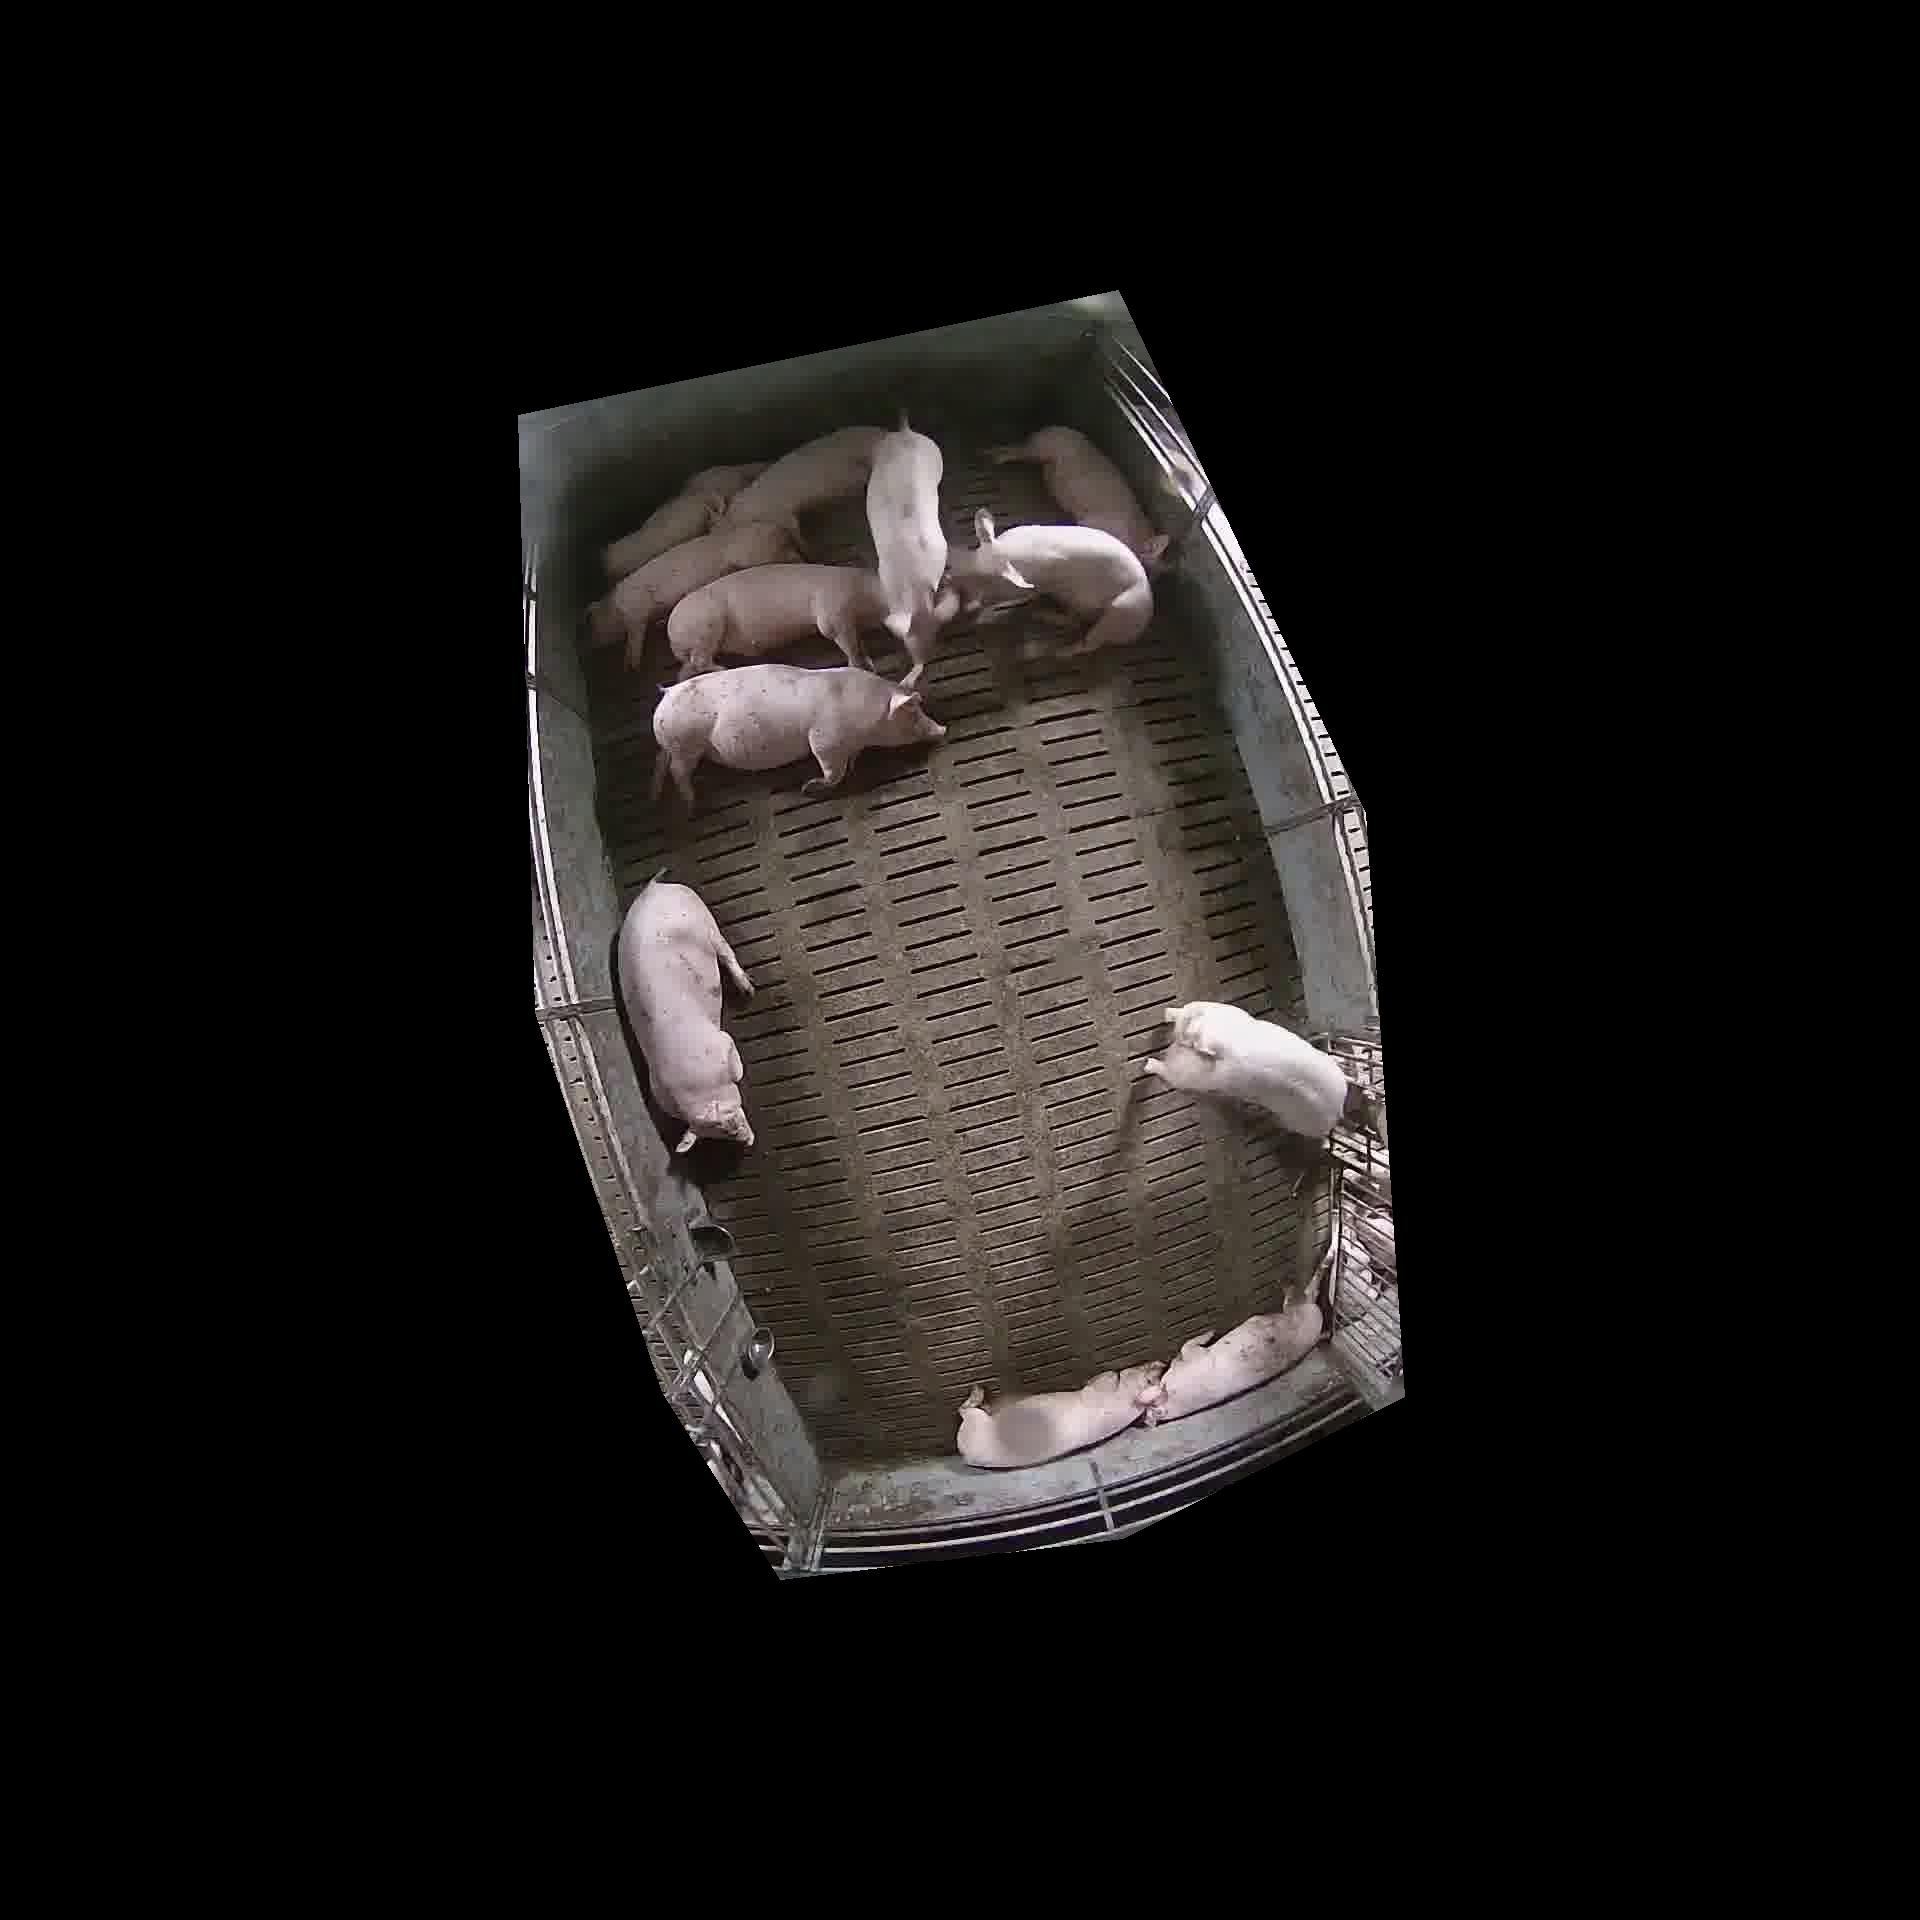pig: (652, 663, 944, 804), (617, 879, 753, 1152), (587, 522, 800, 668), (944, 510, 1152, 654), (1145, 1000, 1347, 1136), (666, 563, 884, 679), (986, 425, 1167, 564), (1143, 1296, 1322, 1422), (867, 411, 956, 663), (956, 1363, 1162, 1466), (717, 425, 884, 540), (603, 462, 765, 580)
